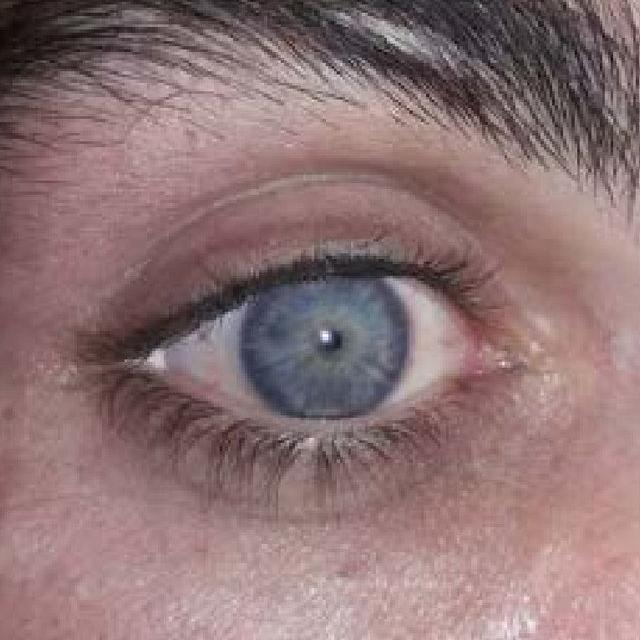eye: (175, 255, 478, 428)
iris: (236, 266, 412, 419)
